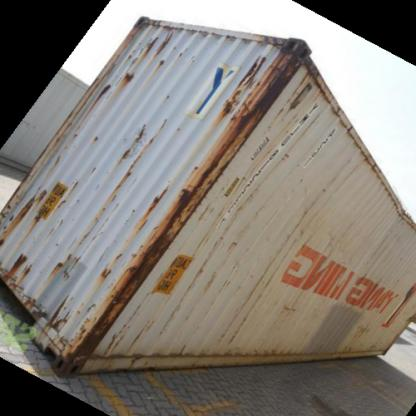Damage: (56, 185, 190, 361), (215, 46, 301, 136), (118, 29, 172, 88), (120, 113, 162, 166), (76, 78, 112, 118), (344, 310, 372, 356), (6, 241, 36, 283), (3, 193, 36, 230), (388, 182, 412, 232), (275, 285, 299, 315)
